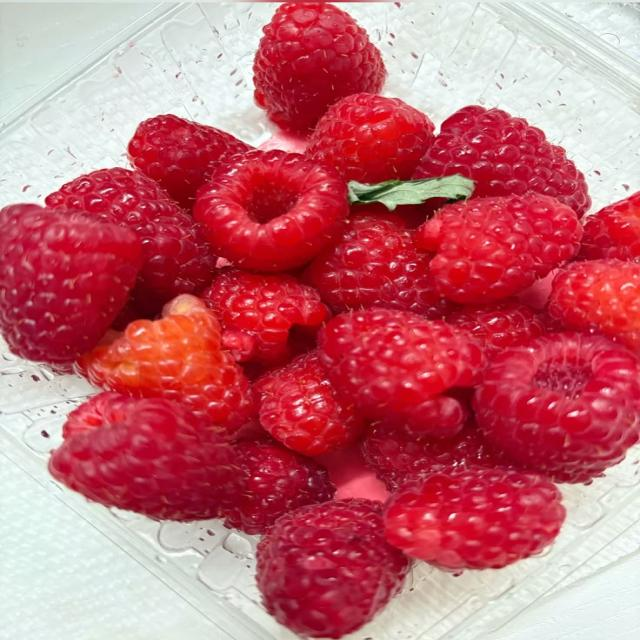raspberry: (46, 168, 216, 316), (79, 295, 254, 437), (474, 333, 639, 482), (49, 393, 240, 520), (0, 205, 141, 365), (257, 499, 412, 638), (319, 308, 484, 435), (414, 106, 590, 216), (384, 468, 565, 571), (194, 151, 348, 272), (415, 194, 582, 304), (254, 3, 386, 130), (303, 207, 452, 319), (200, 267, 328, 365), (128, 115, 253, 210), (254, 351, 363, 456), (306, 94, 434, 183), (225, 438, 335, 534), (361, 420, 505, 491), (548, 259, 639, 350), (447, 299, 546, 358), (578, 192, 639, 260)
